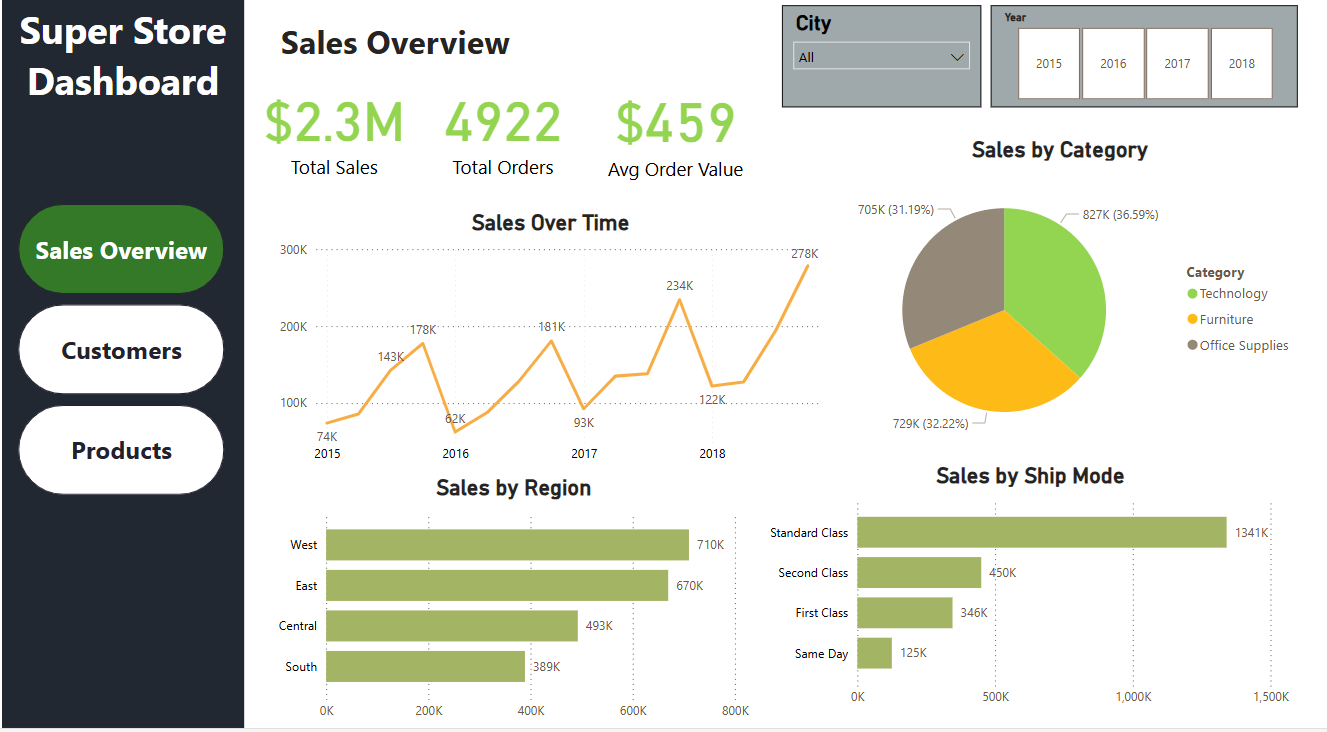

This screenshot's page, from the dashboard's own definition file:
{"tool":"powerbi","page":{"name":"Sales Overview ","canvas":[1280,720],"ordinal":0},"visuals":[{"type":"textbox","box":[0,0,238.8,720.3],"z":0},{"type":"card","fields":{"Values":["Superstore Sales Dataset.Total Sales"]},"box":[251.3,74.6,153,105.7],"z":1000},{"type":"card","fields":{"Values":["Superstore Sales Dataset.Total Orders"]},"box":[418,74.6,153,105.7],"z":2000},{"type":"lineChart","title":"Sales Over Time","fields":{"Y":["Sum(Superstore Sales Dataset.Sales)"],"Category":["Superstore Sales Dataset.Order Date.Variation.Date Hierarchy.Year","Superstore Sales Dataset.Order Date.Variation.Date Hierarchy.Quarter"]},"box":[269.5,203.1,540.4,263.2],"z":3000},{"type":"pieChart","title":"Sales by Category","fields":{"Category":["Superstore Sales Dataset.Category"],"Y":["Superstore Sales Dataset.Total Sales"]},"box":[809.8,130.6,470.2,307.3],"z":4000},{"type":"clusteredBarChart","title":"Sales by Region","fields":{"Category":["Superstore Sales Dataset.Region"],"Y":["Superstore Sales Dataset.Total Sales"]},"box":[269.5,465,472.7,255.5],"z":5000},{"type":"card","fields":{"Values":["Superstore Sales Dataset.Average Order Value"]},"box":[588.4,67.2,153,123.2],"z":6000},{"type":"clusteredBarChart","title":"Sales by Ship Mode","fields":{"Category":["Superstore Sales Dataset.Ship Mode"],"Y":["Superstore Sales Dataset.Total Sales"]},"box":[752.4,453.5,527.6,254.2],"z":8000},{"type":"pageNavigator","box":[16.2,202.8,204,289.8],"z":10000},{"type":"textbox","box":[269.9,14.9,301,52.2],"z":11000},{"type":"pieChart","title":"Sales by Category","fields":{"Category":["Superstore Sales Dataset.Category"],"Y":["Superstore Sales Dataset.Total Sales"]},"box":[809.9,130.3,470.1,323.2],"z":12000},{"type":"slicer","fields":{"Values":["Superstore Sales Dataset.Order Date.Variation.Date Hierarchy.Year"]},"box":[976.5,6.2,303.5,100.8],"z":12001},{"type":"slicer","fields":{"Values":["Superstore Sales Dataset.City"]},"box":[770,6.2,196.5,100.8],"z":12002}]}

Visuals, with their boxes in screenshot pixels (x1, y1, x2, y2), scaled from the page's 1280x720 canvas onto the 1327x732 screenshot:
textbox: 0/0/248/731
card - Superstore Sales Dataset.Total Sales: 261/76/419/183
card - Superstore Sales Dataset.Total Orders: 433/76/592/183
"Sales Over Time" lineChart: 279/206/840/474
"Sales by Category" pieChart: 840/133/1326/445
"Sales by Region" clusteredBarChart: 279/473/769/731
card - Superstore Sales Dataset.Average Order Value: 610/68/769/194
"Sales by Ship Mode" clusteredBarChart: 780/461/1326/719
pageNavigator: 17/206/228/501
textbox: 280/15/592/68
"Sales by Category" pieChart: 840/132/1326/461
slicer - Superstore Sales Dataset.Order Date.Variation.Date Hierarchy.Year: 1012/6/1326/109
slicer - Superstore Sales Dataset.City: 798/6/1002/109
